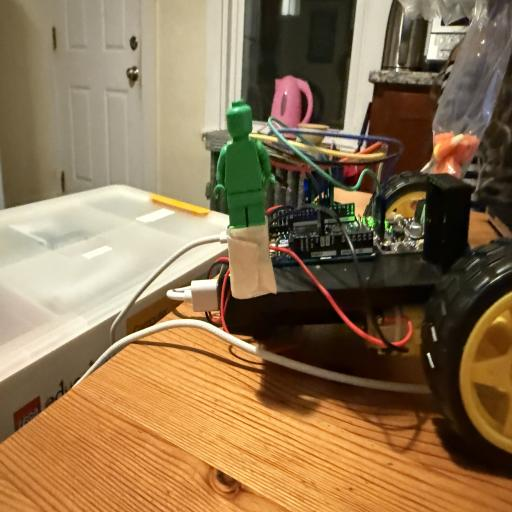Minifig: (214, 100, 274, 228)
